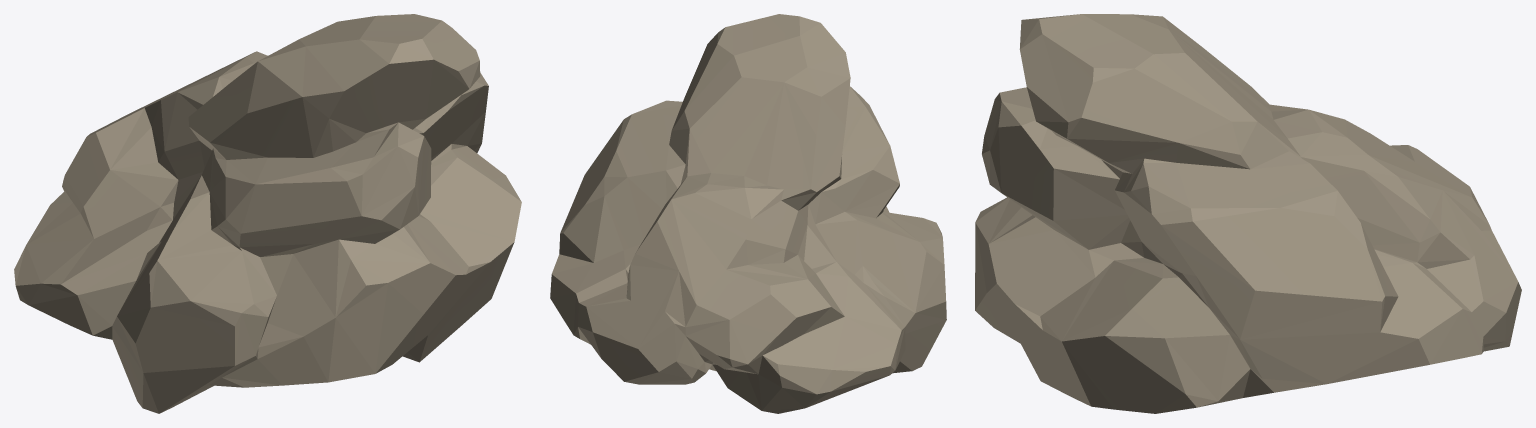
The model's file is SM_Rock_Pile_02.glb.
The picture shows the model from 3 angles, left to right: view 1: azimuth 30°, elevation 25°; view 2: azimuth 150°, elevation 25°; view 3: azimuth 270°, elevation 25°; orthographic projection. The views are drawn at different scales.
Parts seen in each view (by area): view 1: SM_Rock_Pile_02; view 2: SM_Rock_Pile_02; view 3: SM_Rock_Pile_02.
Part boxes in pixels (box(x1,y1,x2,y2)): SM_Rock_Pile_02: box(14, 14, 521, 413); SM_Rock_Pile_02: box(550, 14, 946, 413); SM_Rock_Pile_02: box(975, 14, 1521, 413).
Size of the model in its own units: 5.4 by 4.35 by 5.55.
Materials: 1 (1 with a texture image).
